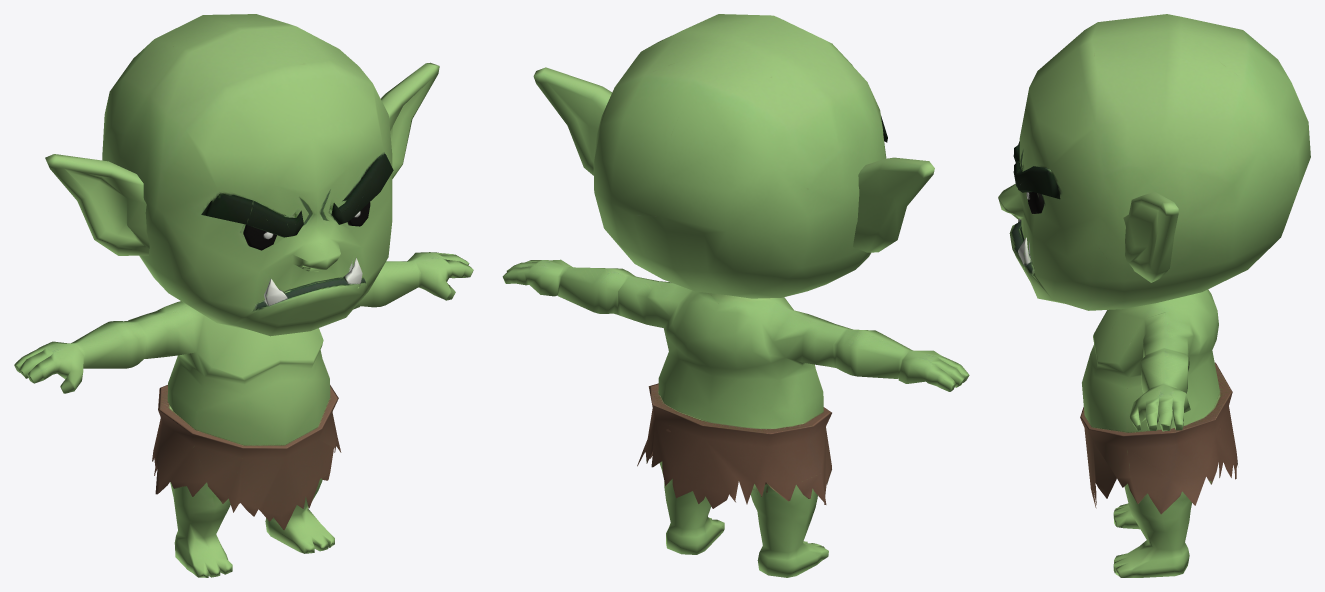
Rendered from Duende.fbx.
3 views of the same model, side by side, from view 1: azimuth 30°, elevation 25°; view 2: azimuth 150°, elevation 25°; view 3: azimuth 270°, elevation 25° (orthographic).
Visible parts, largest first — view 1: Mesh_0; view 2: Mesh_0; view 3: Mesh_0.
Boxes of the visible parts, x1,y1,x2,y2 form: Mesh_0: [14, 14, 473, 577]; Mesh_0: [502, 14, 969, 577]; Mesh_0: [998, 14, 1310, 577].
Bounding box in the file's own units: 87.01 × 95.17 × 52.54.
1 material, 1 textured.
